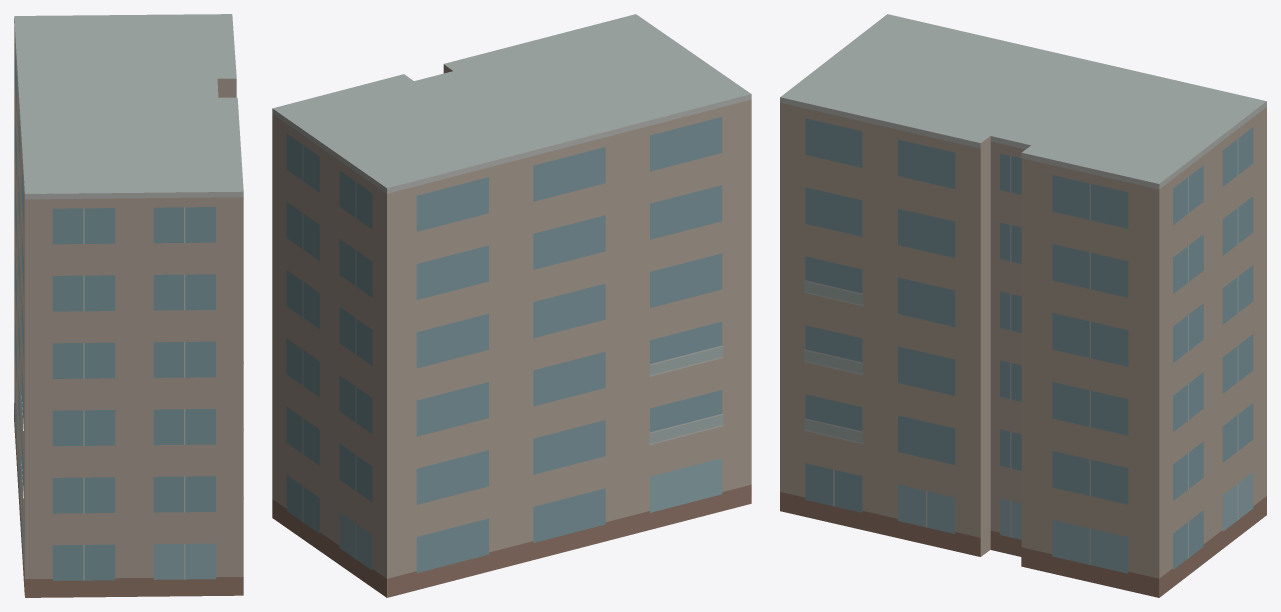
Rendered from survey-upis-32979731.glb.
3 views of the same model, side by side, from view 1: azimuth 30°, elevation 25°; view 2: azimuth 150°, elevation 25°; view 3: azimuth 270°, elevation 25° (orthographic). The views are drawn at different scales.
Parts seen in each view (by area): view 1: survey-upis-32979731.tmp; view 2: survey-upis-32979731.tmp; view 3: survey-upis-32979731.tmp.
Boxes of the visible parts, box(x1,y1,x2,y2) form: survey-upis-32979731.tmp: box(14, 14, 243, 597); survey-upis-32979731.tmp: box(272, 14, 751, 597); survey-upis-32979731.tmp: box(780, 14, 1266, 597).
Size of the model in its own units: 16.13 by 18.3 by 19.51.
